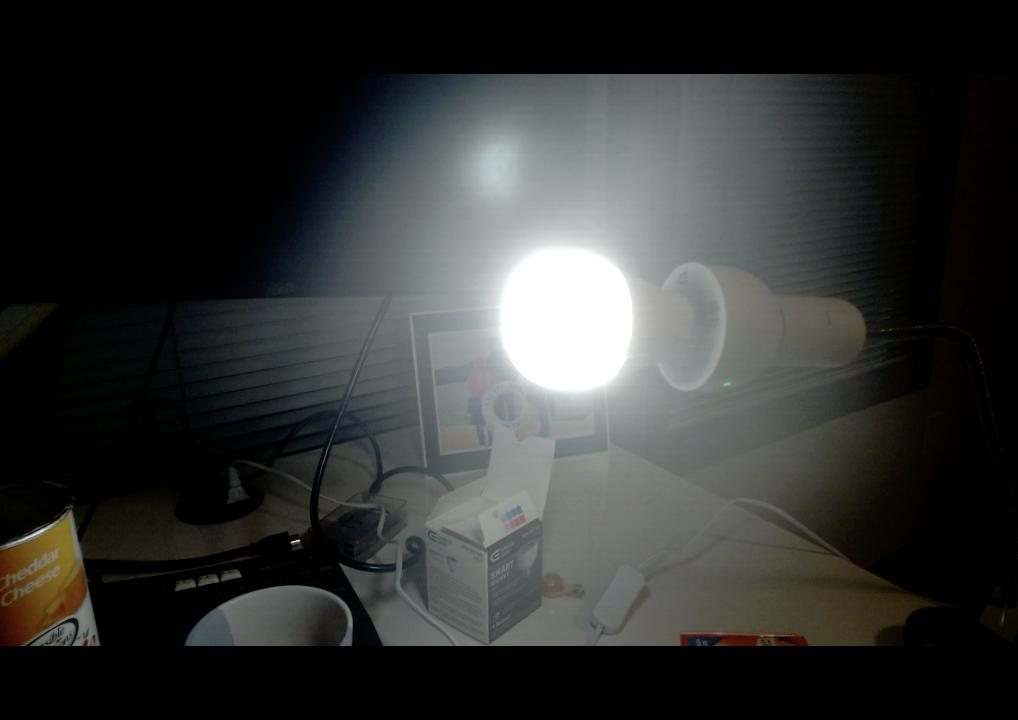TubeLight: (496, 244, 701, 391)
